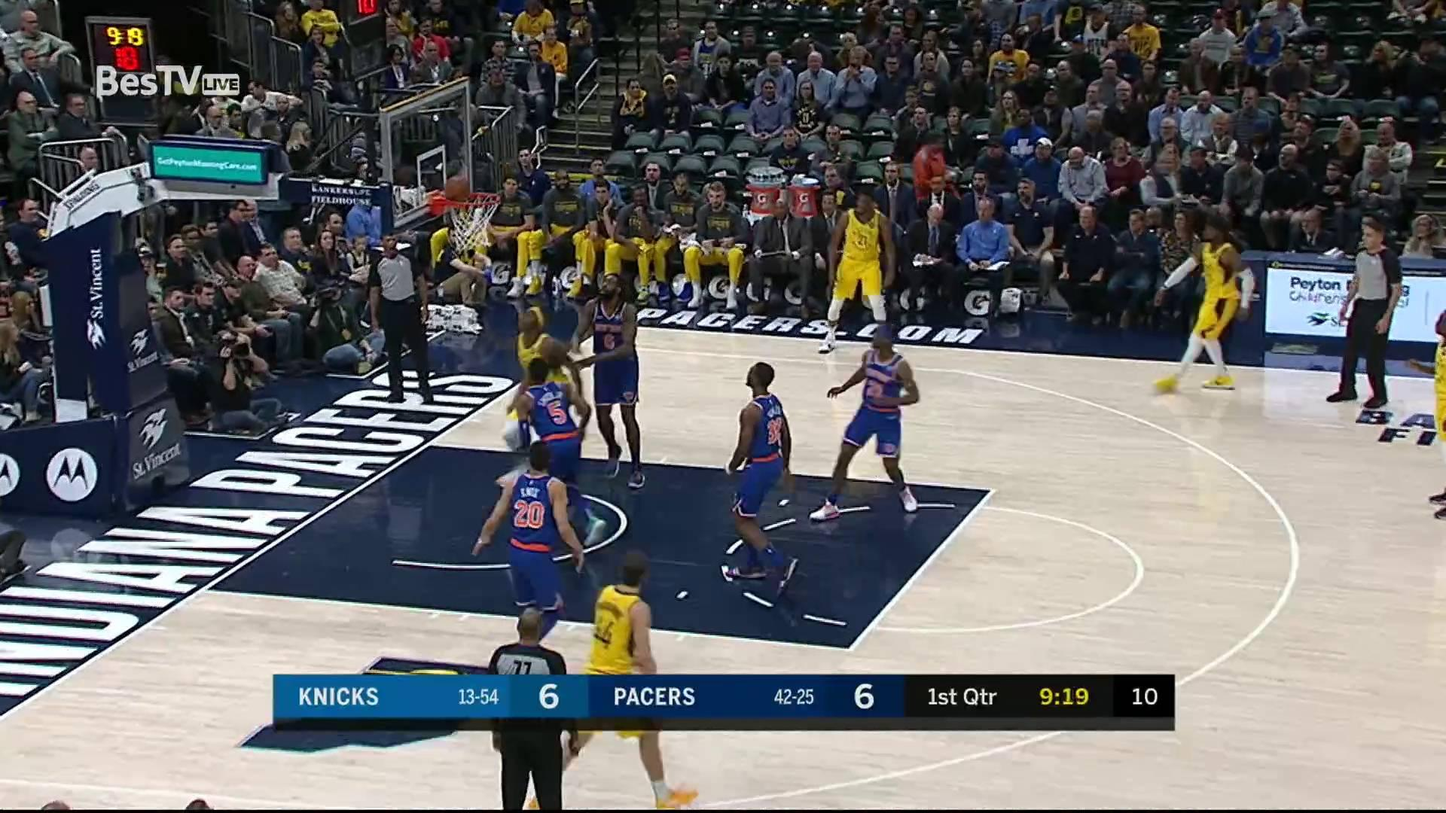basketball: (441, 173, 472, 205)
